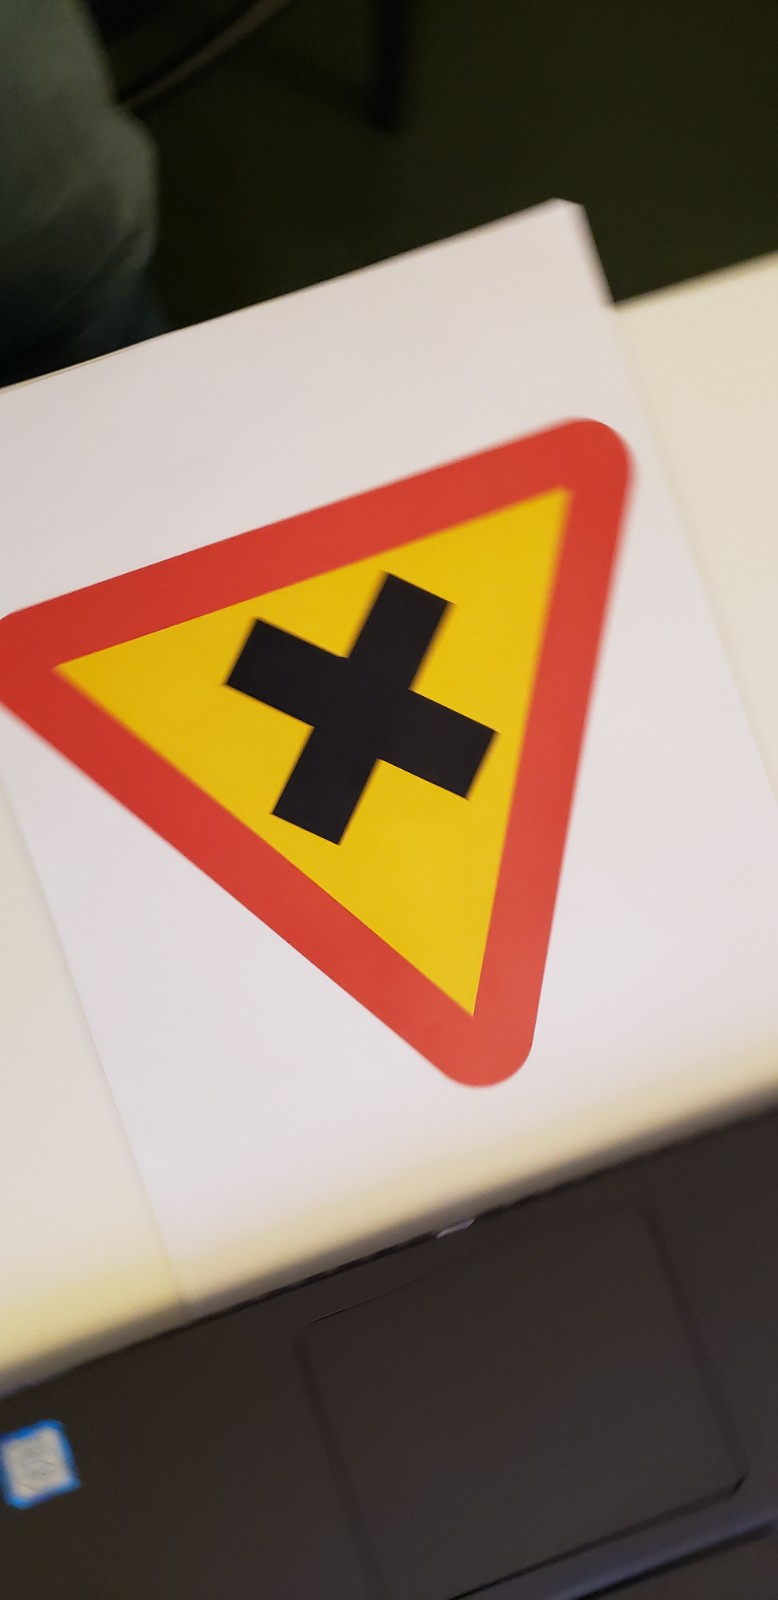junction: (5, 404, 704, 1132)
